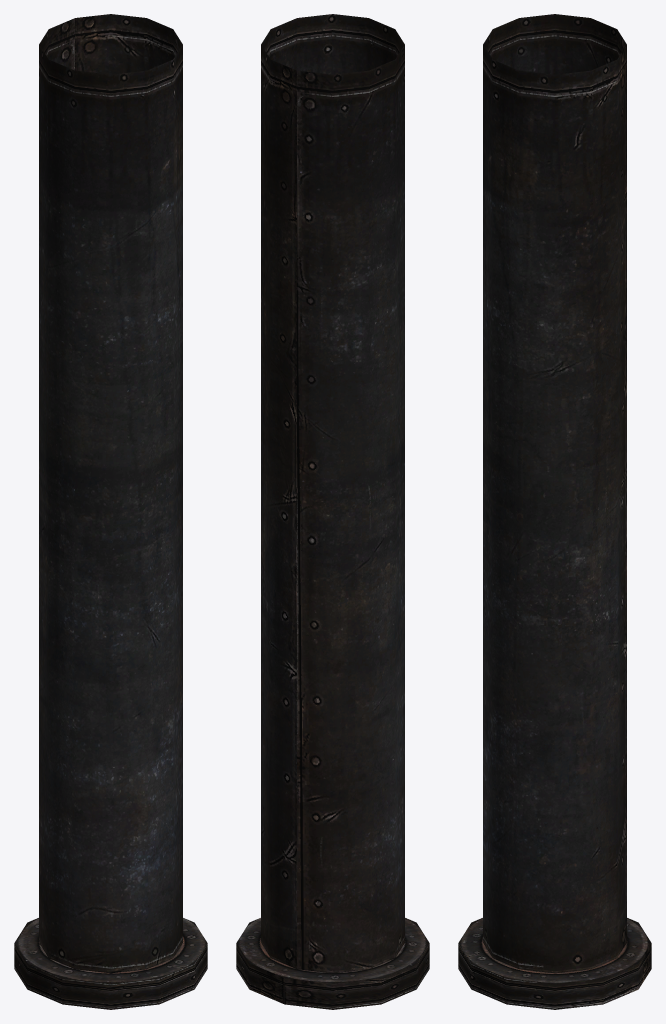
The model's file is tesla_props_pipes_02_lg.dae.
3 renders of one model, left to right at view 1: azimuth 30°, elevation 25°; view 2: azimuth 150°, elevation 25°; view 3: azimuth 270°, elevation 25°, orthographic.
Parts seen in each view (by area): view 1: polySurface396; view 2: polySurface396; view 3: polySurface396.
Part boxes in pixels (x1,y1,x2,y2): polySurface396: [14, 14, 207, 1009]; polySurface396: [236, 14, 429, 1009]; polySurface396: [458, 14, 651, 1009].
Bounding box in the file's own units: 0.6718 × 3.55 × 0.6718.
